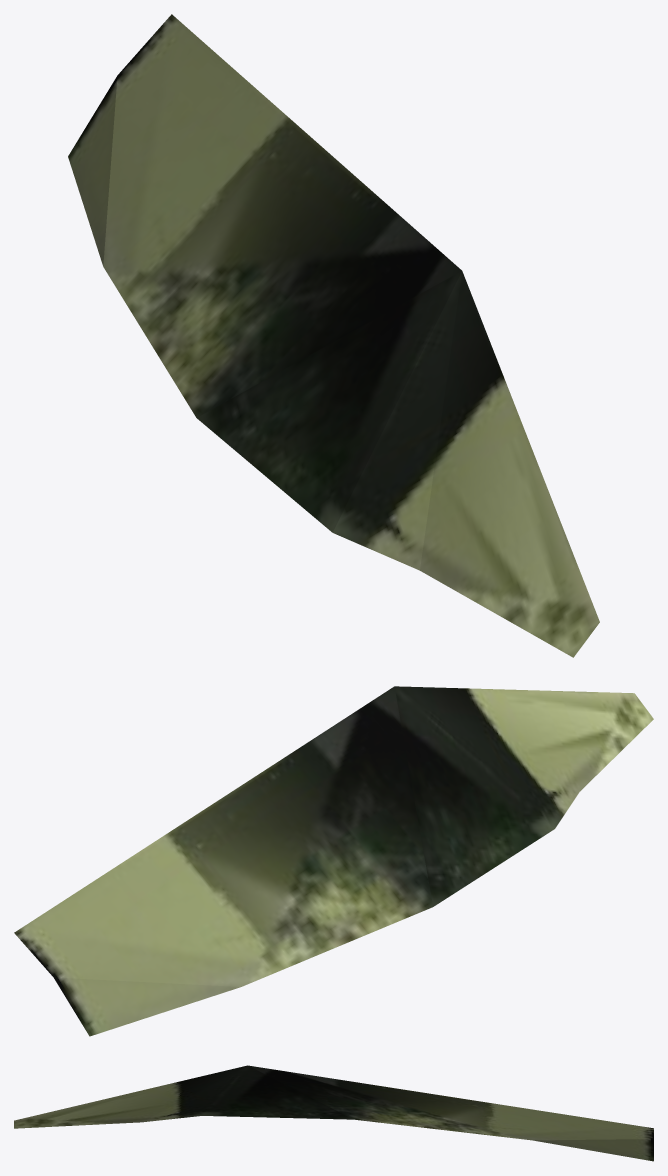
3 renders of one model, top to bottom at view 1: azimuth 30°, elevation 25°; view 2: azimuth 150°, elevation 25°; view 3: azimuth 270°, elevation 25°, orthographic. The views are drawn at different scales.
Bounding box in the file's own units: 3.1 × 1.89 × 11.8.
Materials: 1 (1 with a texture image).
